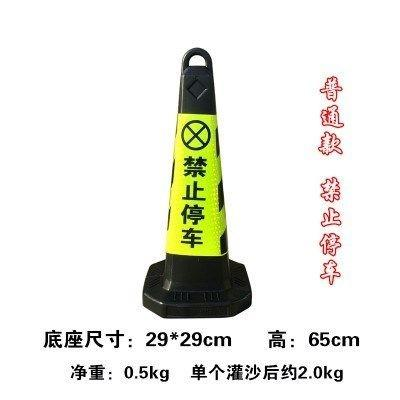cone_barrel: (139, 52, 253, 322), (314, 72, 346, 151)
